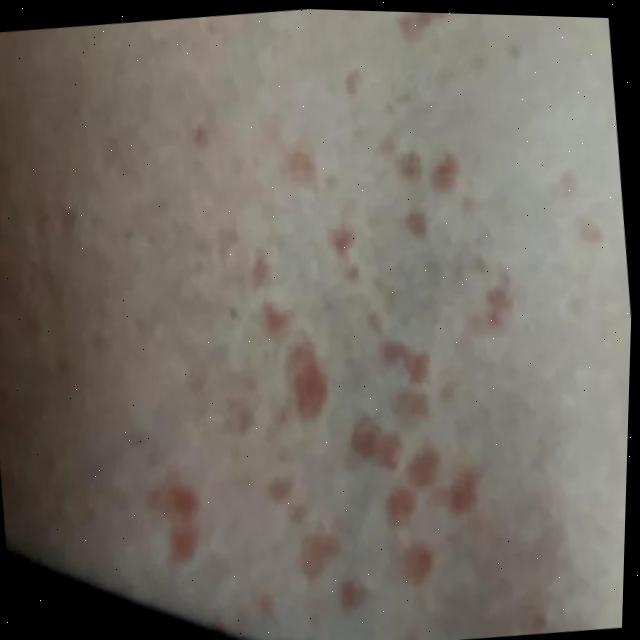Rosacea: (93, 3, 561, 637)
